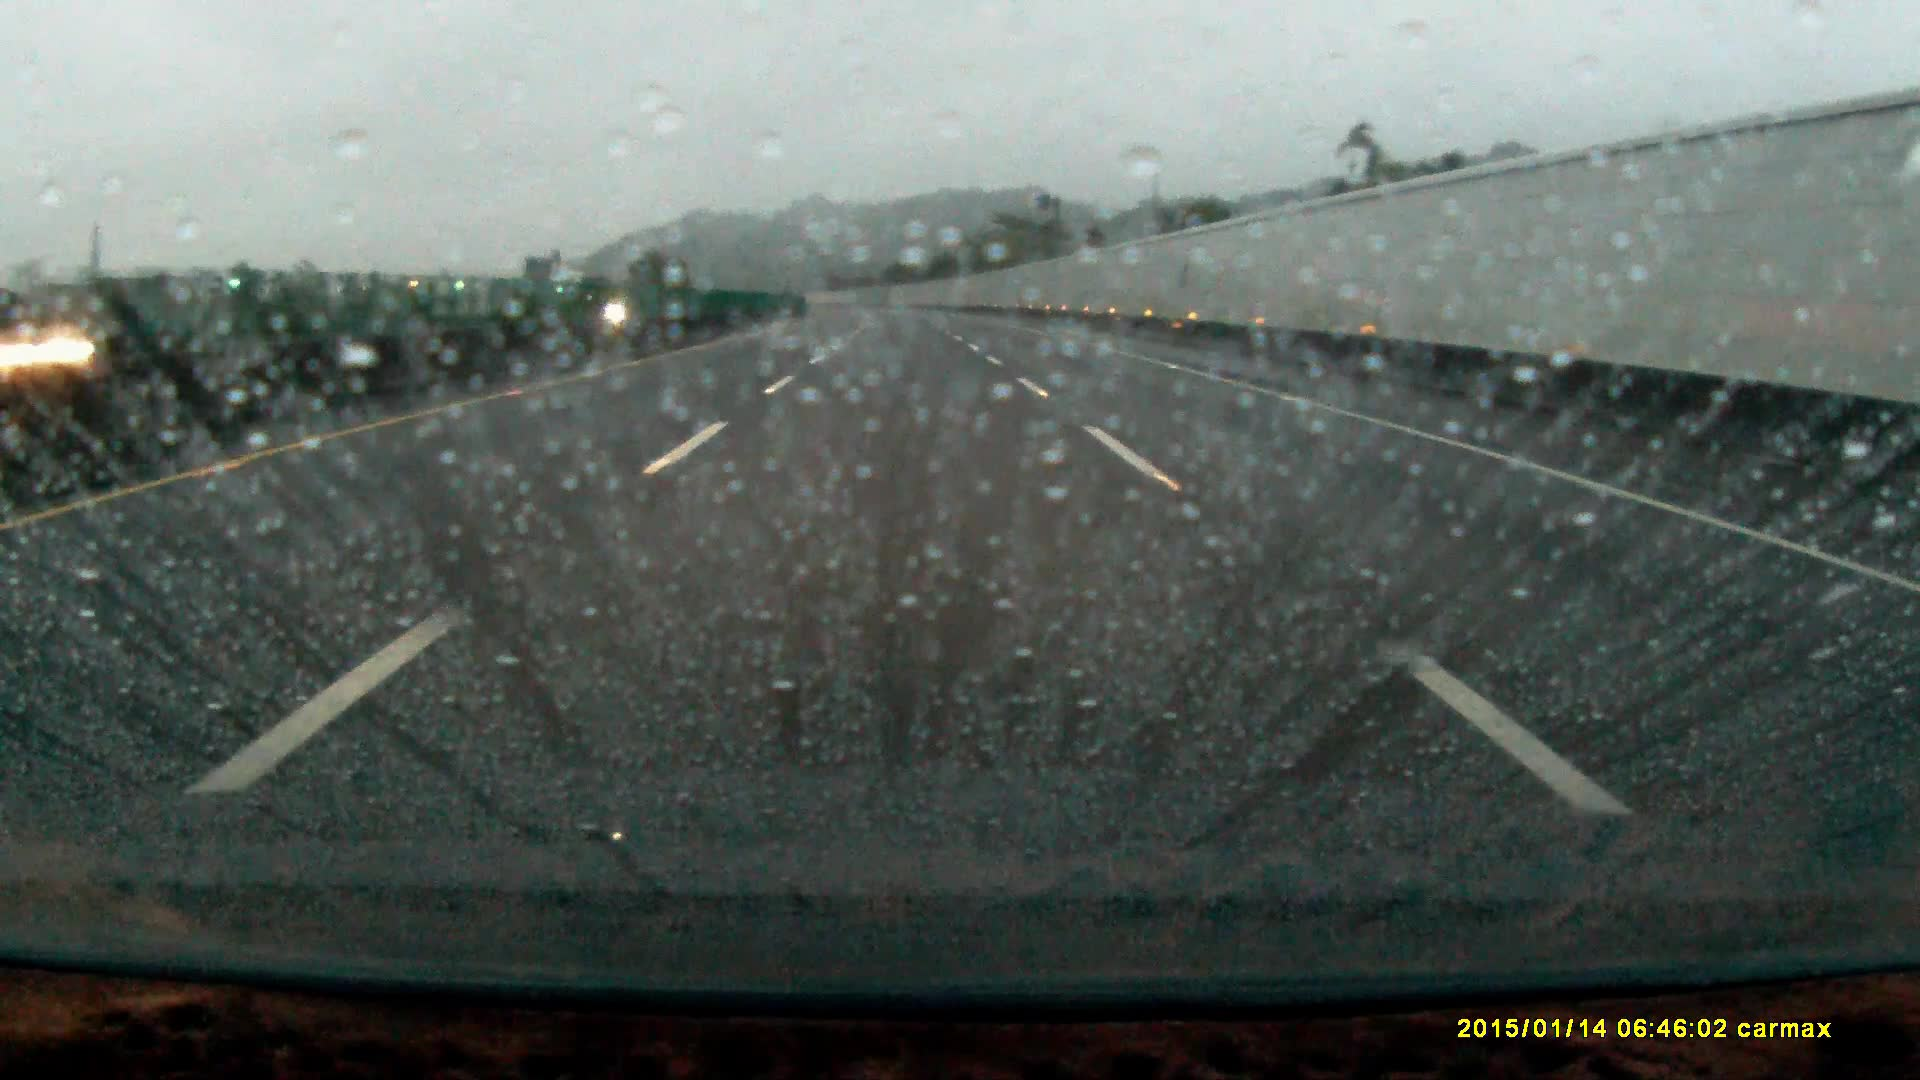vehicle: (1, 316, 115, 396)
